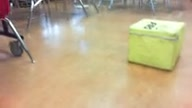cube: (128, 17, 187, 71)
